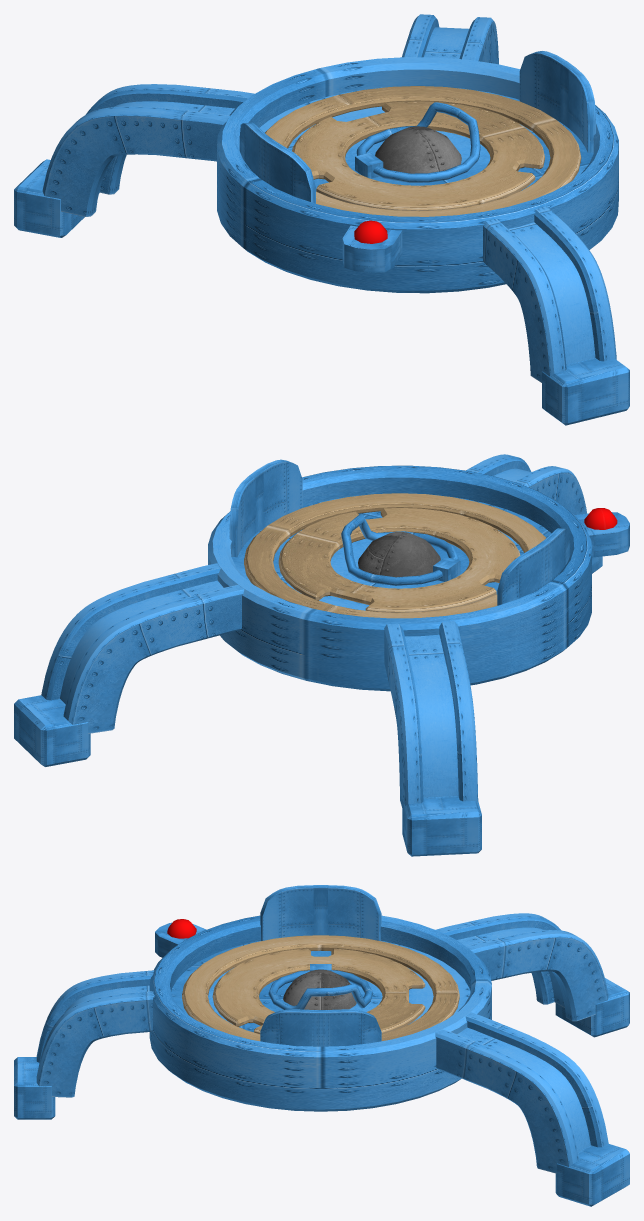
The model's file is static.glb.
3 views of the same model, one above another, from view 1: azimuth 30°, elevation 25°; view 2: azimuth 150°, elevation 25°; view 3: azimuth 270°, elevation 25° (orthographic). The views are drawn at different scales.
Parts seen in each view (by area): view 1: Tube, Boole_2, Sweep_2, Sweep_3, Sweep_6, Cube_5, Cube_3, Sweep_1_3, Cylinder_2, Sphere, Cube_2, Sweep_5 (+5 smaller); view 2: Tube, Sweep, Boole_2, Sweep_6, Sweep_2, Cube_5, Sweep_1_2, Cube_2, Cube, Cylinder_2, Sphere, Sweep_3 (+4 smaller); view 3: Tube, Sweep, Cube_5, Sweep_2, Boole_2, Sweep_3, Sweep_6, Cube, Cylinder_2, Sweep_1, Cube_3, Cube_2 (+6 smaller).
Boxes of the visible parts, x1,y1,x2,y2 form: Tube: (217, 57, 618, 293); Boole_2: (292, 101, 544, 210); Sweep_2: (42, 84, 254, 216); Sweep_3: (483, 206, 616, 382); Sweep_6: (265, 86, 581, 216); Cube_5: (239, 51, 595, 203); Cube_3: (542, 358, 629, 425); Sweep_1_3: (508, 222, 595, 364); Cylinder_2: (259, 87, 593, 191); Sphere: (375, 126, 461, 173); Cube_2: (14, 159, 84, 237); Sweep_5: (356, 102, 480, 182); Tube: (208, 465, 591, 691); Sweep: (41, 563, 244, 733); Boole_2: (278, 508, 520, 612); Sweep_6: (244, 493, 545, 618); Sweep_2: (384, 621, 478, 807); Cube_5: (229, 459, 570, 605); Sweep_1_2: (405, 634, 458, 797); Cube_2: (402, 796, 481, 856); Cube: (14, 695, 90, 766); Cylinder_2: (231, 493, 551, 610); Sphere: (358, 532, 440, 577); Sweep_3: (466, 454, 586, 514); Tube: (149, 915, 491, 1111); Sweep: (435, 1012, 608, 1173); Cube_5: (260, 885, 381, 1046); Sweep_2: (435, 913, 608, 1021); Boole_2: (212, 948, 425, 1033); Sweep_3: (36, 970, 154, 1097); Sweep_6: (182, 935, 459, 1041); Cube: (555, 1143, 629, 1206); Cylinder_2: (171, 941, 470, 1032); Sweep_1: (457, 1027, 590, 1152); Cube_3: (14, 1057, 55, 1119); Cube_2: (555, 978, 629, 1037).
Size of the model in its own units: 1.67 by 0.6084 by 2.15.
Materials: 4 (4 with a texture image).
